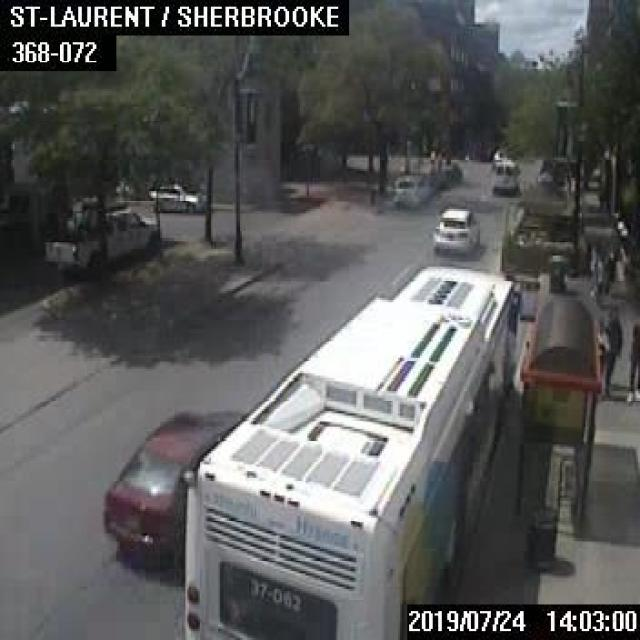bus: (180, 263, 523, 638)
pedestrian: (599, 304, 620, 396), (622, 318, 638, 400)
vehicle: (101, 408, 246, 556), (40, 192, 160, 277), (148, 178, 206, 212), (432, 207, 478, 249), (487, 156, 520, 193), (391, 172, 430, 202), (440, 160, 461, 178)
